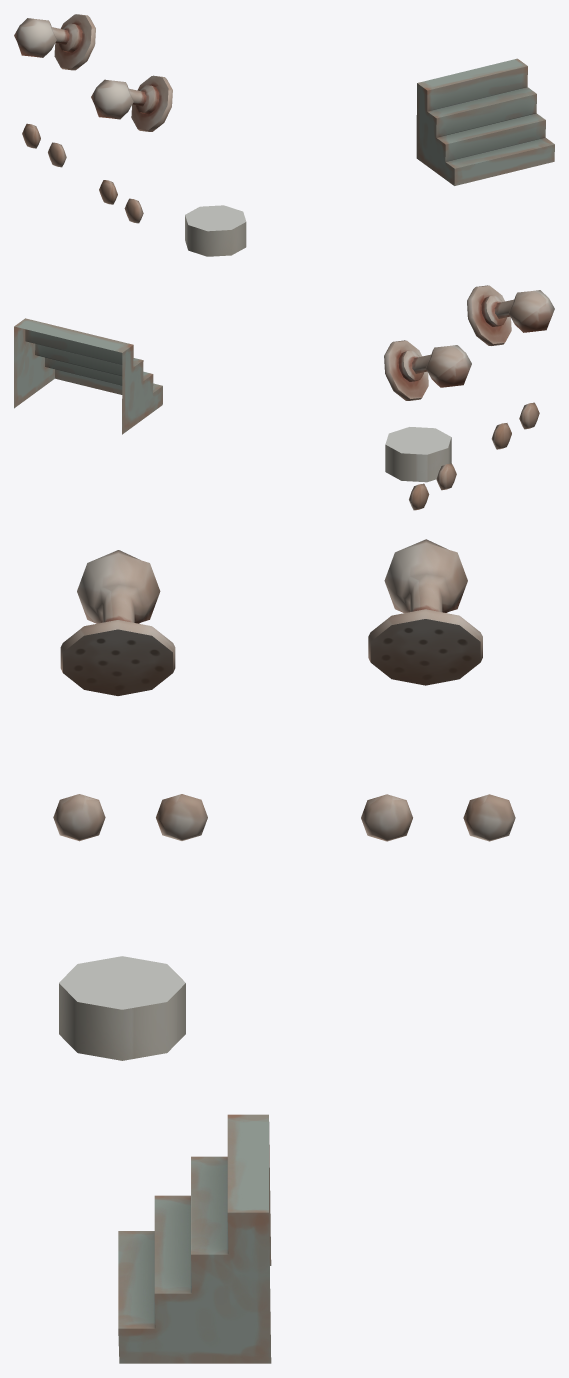
Rendered from bathroom trim.obj.
The picture shows the model from 3 angles, top to bottom: view 1: azimuth 30°, elevation 25°; view 2: azimuth 150°, elevation 25°; view 3: azimuth 270°, elevation 25°; orthographic projection. The views are drawn at different scales.
Visible parts, largest first — view 1: polySurface1467 polySurface1455, polySurface1553, polySurface1549, polySurface1533 pCylinder114, polySurface1554 polySurface1535, polySurface1535 polySurface1555, polySurface1529 polySurface1551, polySurface1550 polySurface1529; view 2: polySurface1467 polySurface1455, polySurface1549, polySurface1553, polySurface1533 pCylinder114, polySurface1554 polySurface1535, polySurface1529 polySurface1551, polySurface1550 polySurface1529, polySurface1535 polySurface1555; view 3: polySurface1467 polySurface1455, polySurface1553, polySurface1549, polySurface1533 pCylinder114, polySurface1529 polySurface1551, polySurface1554 polySurface1535, polySurface1535 polySurface1555, polySurface1550 polySurface1529.
Part boxes in pixels (box(x1,y1,x2,y2)): polySurface1467 polySurface1455: box(416, 58, 554, 185); polySurface1553: box(91, 75, 172, 131); polySurface1549: box(14, 14, 95, 70); polySurface1533 pCylinder114: box(185, 205, 246, 256); polySurface1554 polySurface1535: box(124, 198, 143, 223); polySurface1535 polySurface1555: box(99, 180, 117, 204); polySurface1529 polySurface1551: box(22, 123, 40, 148); polySurface1550 polySurface1529: box(48, 142, 66, 167); polySurface1467 polySurface1455: box(14, 318, 162, 434); polySurface1549: box(384, 340, 471, 400); polySurface1553: box(467, 285, 554, 345); polySurface1533 pCylinder114: box(385, 427, 451, 482); polySurface1554 polySurface1535: box(519, 402, 539, 429); polySurface1529 polySurface1551: box(409, 483, 429, 510); polySurface1550 polySurface1529: box(436, 463, 456, 490); polySurface1535 polySurface1555: box(491, 423, 511, 449); polySurface1467 polySurface1455: box(118, 1114, 271, 1363); polySurface1553: box(60, 550, 175, 695); polySurface1549: box(368, 539, 482, 685); polySurface1533 pCylinder114: box(59, 956, 185, 1060); polySurface1529 polySurface1551: box(463, 794, 515, 841); polySurface1554 polySurface1535: box(53, 794, 105, 841); polySurface1535 polySurface1555: box(156, 794, 207, 840); polySurface1550 polySurface1529: box(361, 794, 412, 841).
Bounding box in the file's own units: 7.23 × 2.92 × 3.14.
Materials: 2 (2 with a texture image).
